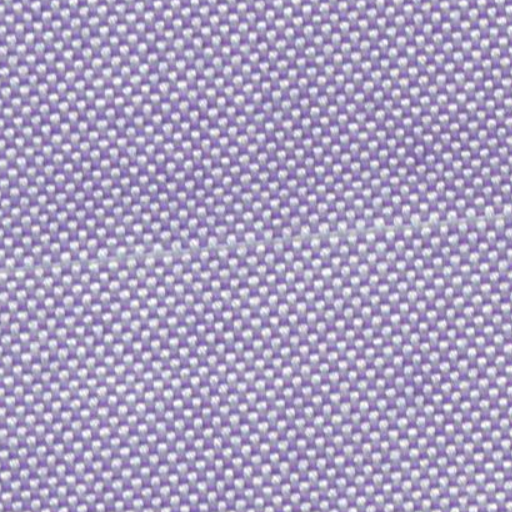TuoSha: (10, 202, 508, 283)
